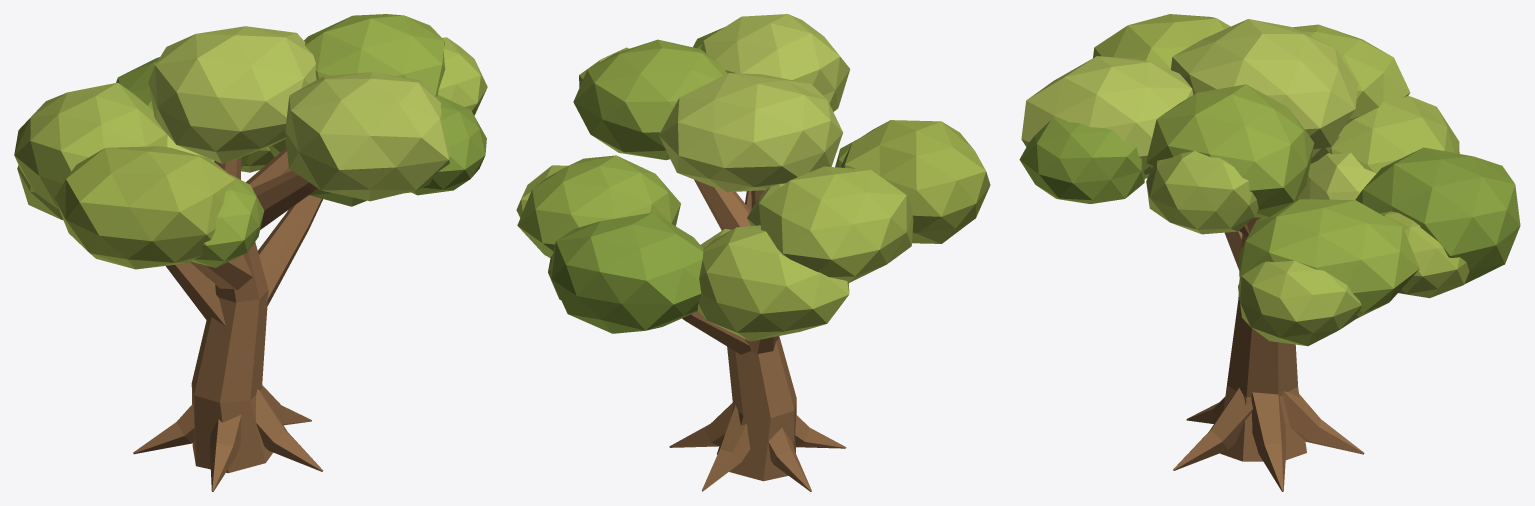
The model's file is Oak_Ancient.fbx.
3 renders of one model, left to right at view 1: azimuth 30°, elevation 25°; view 2: azimuth 150°, elevation 25°; view 3: azimuth 270°, elevation 25°, orthographic. The views are drawn at different scales.
Visible parts, largest first — view 1: Oak_Ancient; view 2: Oak_Ancient; view 3: Oak_Ancient.
Boxes of the visible parts, x1,y1,x2,y2 form: Oak_Ancient: (14,14,487,491); Oak_Ancient: (516,14,990,491); Oak_Ancient: (1019,14,1520,491).
Size of the model in its own units: 617 by 557 by 599.
